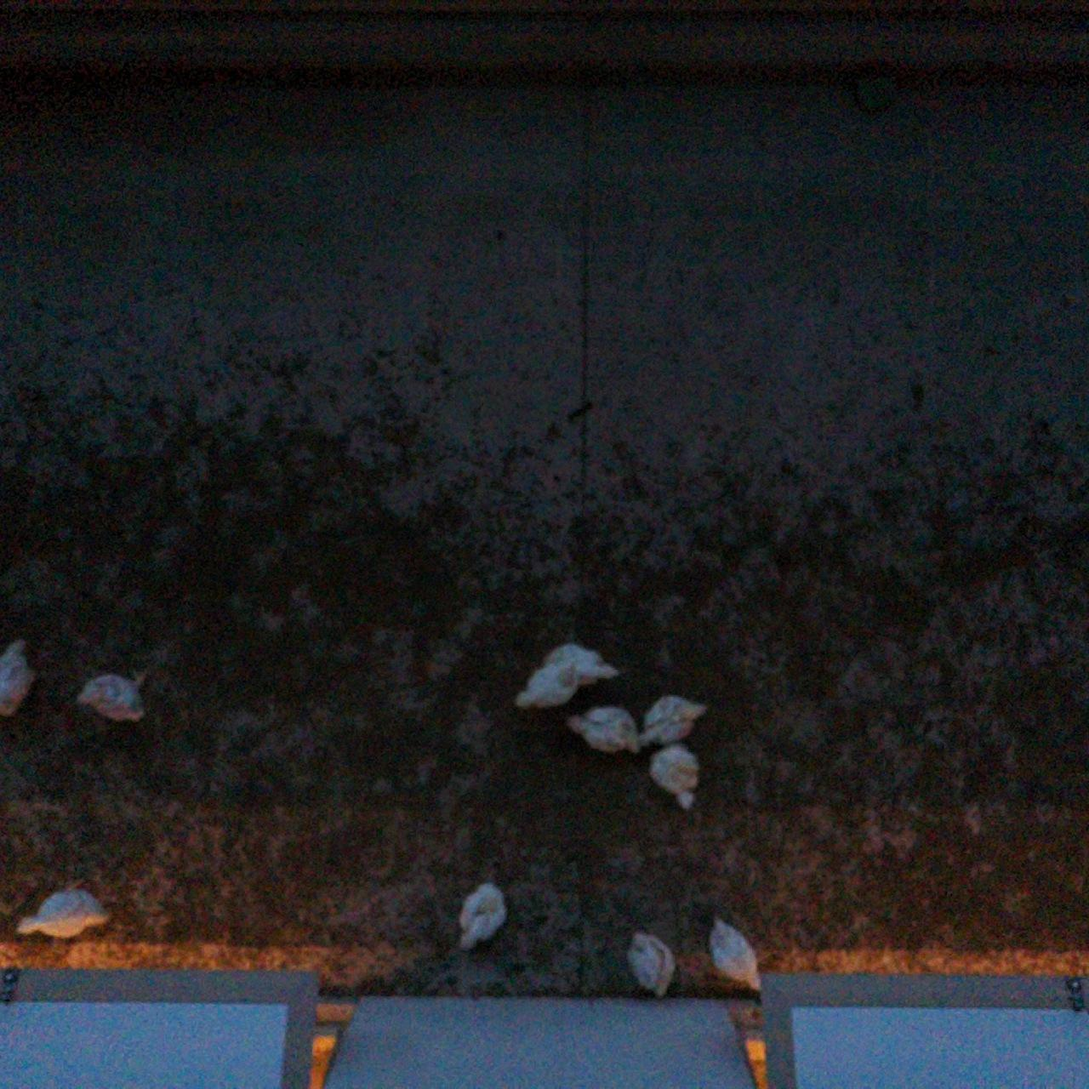chicken: (16, 878, 113, 938), (77, 671, 153, 723), (710, 917, 761, 991), (638, 698, 710, 749), (513, 664, 583, 714), (651, 744, 701, 812), (628, 929, 675, 1001), (460, 880, 509, 949), (570, 710, 639, 757), (547, 640, 622, 683), (0, 637, 39, 719)
